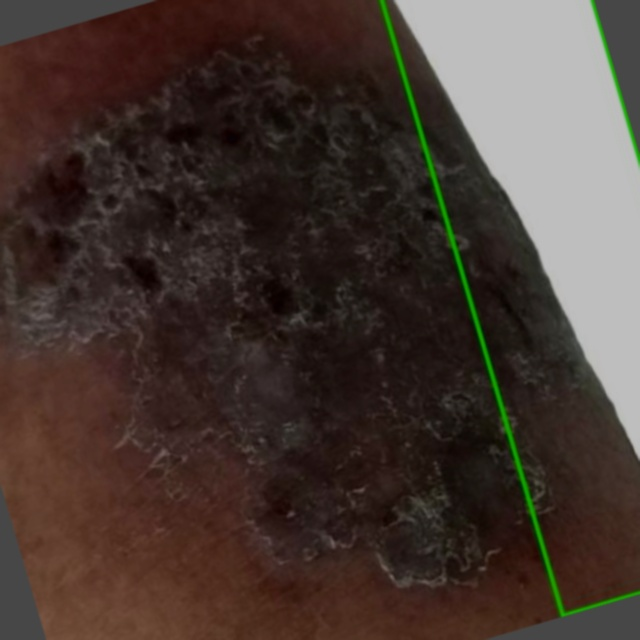Eczema: (381, 0, 639, 616)
